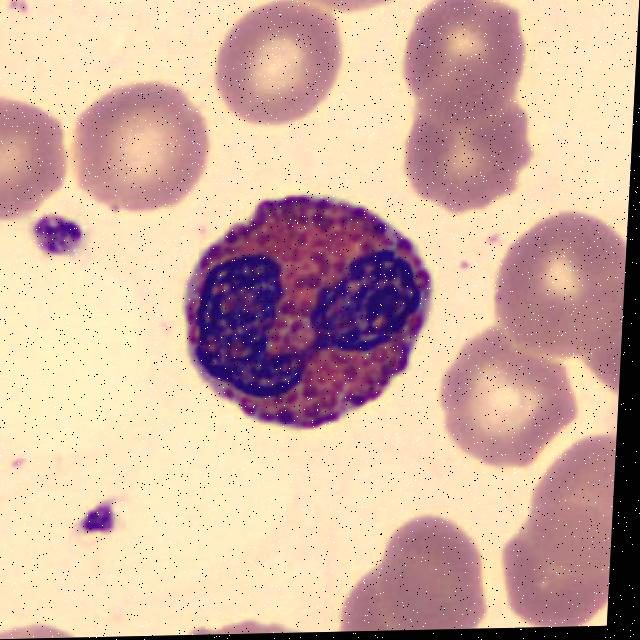eosinophil: (171, 184, 442, 445)
platelets: (17, 210, 92, 270)
rbc: (68, 76, 216, 219), (496, 218, 624, 360), (443, 333, 573, 467), (405, 0, 527, 133), (218, 5, 348, 129), (375, 507, 491, 631), (524, 437, 617, 577), (499, 521, 612, 628), (0, 93, 67, 236), (328, 570, 475, 632), (0, 610, 90, 640)
